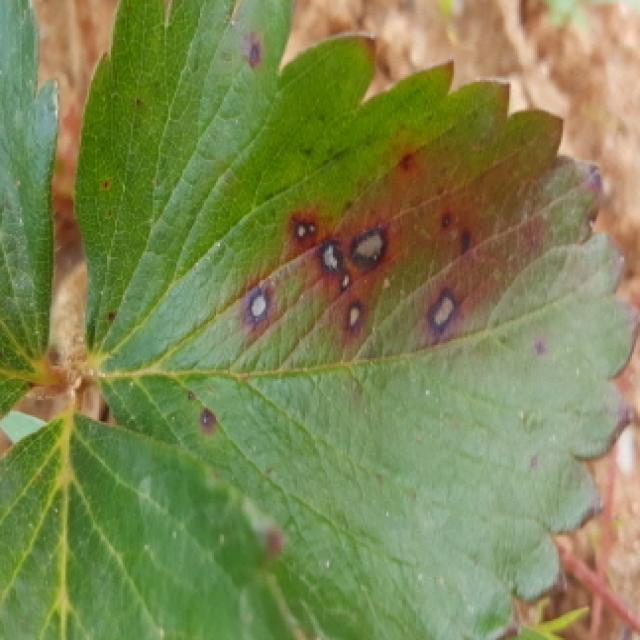Leaf Spot: (75, 0, 640, 640), (0, 410, 299, 640)
